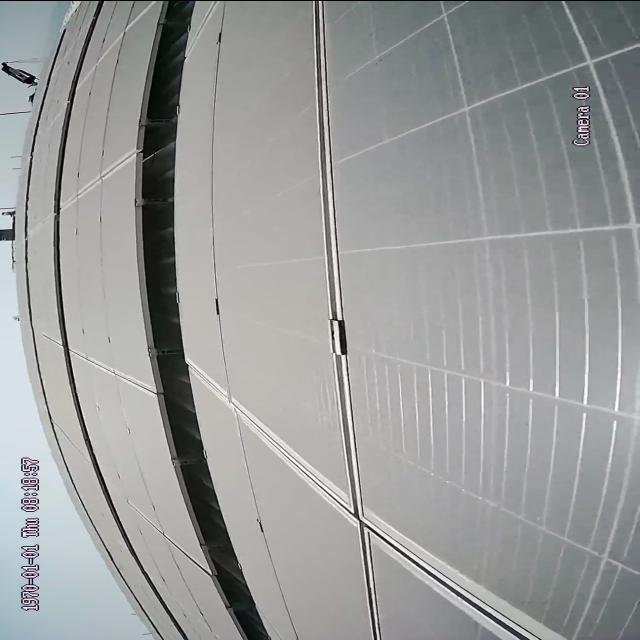interior panel: (202, 2, 572, 640), (131, 496, 200, 571), (62, 154, 131, 210), (75, 349, 147, 392)
outher panel: (138, 1, 272, 637)
